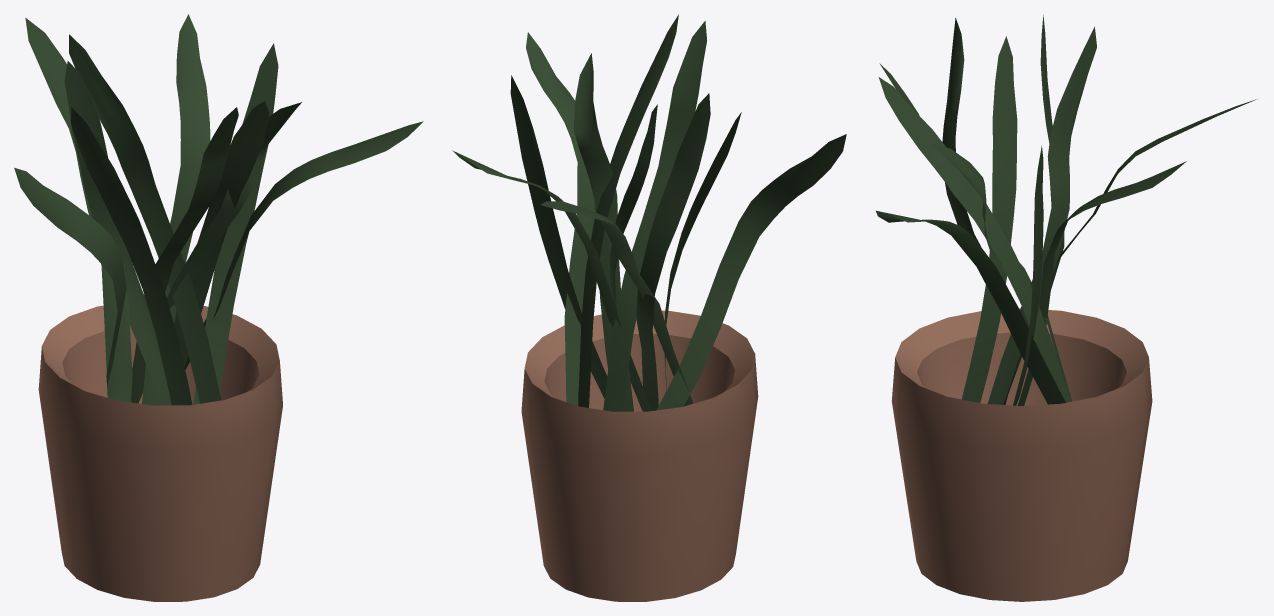
Rendered from Plant 1.2.fbx.
The picture shows the model from 3 angles, left to right: view 1: azimuth 30°, elevation 25°; view 2: azimuth 150°, elevation 25°; view 3: azimuth 270°, elevation 25°; orthographic projection. The views are drawn at different scales.
Visible parts, largest first — view 1: pCylinder1, pPlane10, pPlane12, pPlane13, pPlane5, polySurface3, polySurface2, pPlane14, pPlane9, pPlane2, pPlane11, pPlane3; view 2: pCylinder1, pPlane14, pPlane2, pPlane5, pPlane11, pPlane9, pPlane3, polySurface3, polySurface2, pPlane13, pPlane10, pPlane12; view 3: pCylinder1, pPlane12, pPlane9, pPlane10, pPlane11, pPlane13, pPlane14, polySurface3, pPlane3, polySurface2, pPlane5, pPlane2.
Boxes of the visible parts, x1,y1,x2,y2 form: pCylinder1: (38, 305, 282, 601); pPlane10: (69, 34, 221, 403); pPlane12: (71, 107, 192, 405); pPlane13: (142, 14, 210, 405); pPlane5: (64, 61, 171, 405); polySurface3: (193, 43, 278, 404); polySurface2: (25, 17, 132, 402); pPlane14: (14, 167, 126, 393); pPlane9: (174, 101, 269, 366); pPlane2: (132, 107, 238, 376); pPlane11: (184, 121, 423, 369); pPlane3: (131, 102, 301, 403); pCylinder1: (521, 310, 758, 601); pPlane14: (656, 134, 846, 410); pPlane2: (603, 21, 706, 411); pPlane5: (636, 93, 710, 410); pPlane11: (526, 32, 595, 405); pPlane9: (578, 14, 678, 407); pPlane3: (573, 53, 633, 411); polySurface3: (510, 75, 607, 398); polySurface2: (540, 201, 693, 406); pPlane13: (452, 150, 652, 411); pPlane10: (609, 104, 657, 309); pPlane12: (664, 112, 741, 389); pCylinder1: (891, 308, 1152, 601); pPlane12: (961, 36, 1017, 402); pPlane9: (878, 77, 1071, 402); pPlane10: (987, 26, 1096, 404); pPlane11: (876, 210, 1065, 404); pPlane13: (1017, 161, 1186, 405); pPlane14: (942, 18, 984, 281); polySurface3: (1013, 145, 1043, 405); pPlane3: (931, 143, 1004, 270); polySurface2: (1003, 99, 1257, 404); pPlane5: (1040, 15, 1064, 290); pPlane2: (879, 63, 1071, 401).
Size of the model in its own units: 4.41 by 5.82 by 3.99.
